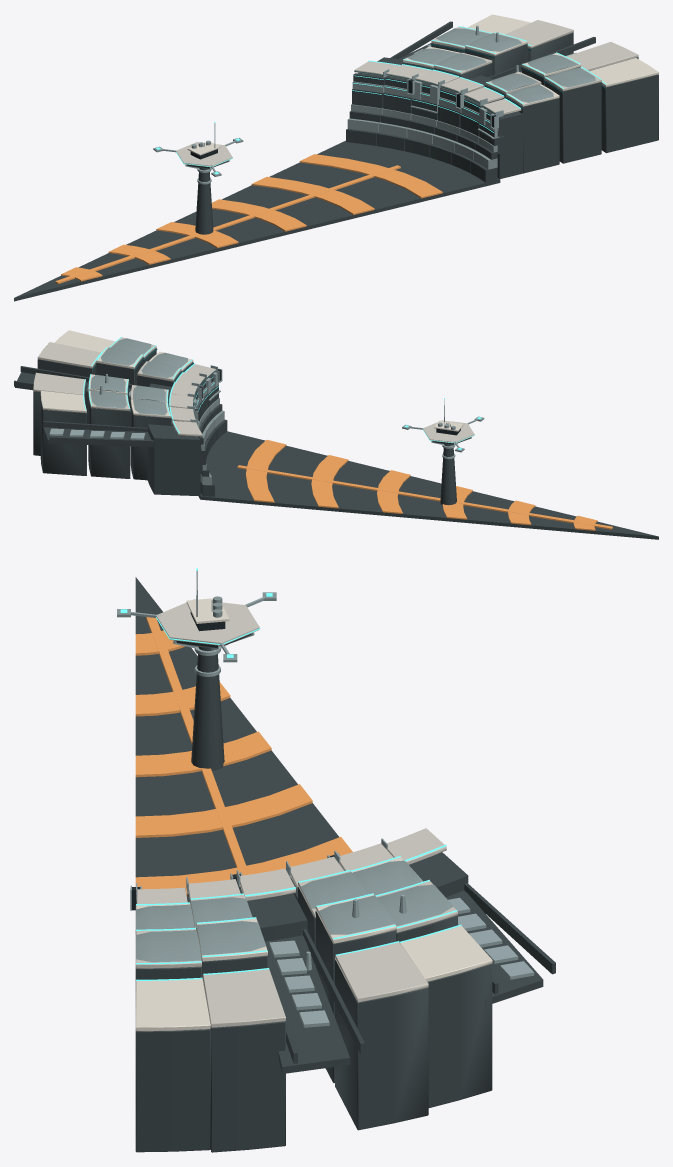
File: Weather_Lung_Sector_00.glb
3 renders of one model, top to bottom at view 1: azimuth 30°, elevation 25°; view 2: azimuth 150°, elevation 25°; view 3: azimuth 270°, elevation 25°, orthographic. The views are drawn at different scales.
Parts seen in each view (by area): view 1: Weather_Lung_Sector_00; view 2: Weather_Lung_Sector_00; view 3: Weather_Lung_Sector_00.
Part boxes in pixels (left/top/right/bottom): Weather_Lung_Sector_00: left=14, top=14, right=658, bottom=301; Weather_Lung_Sector_00: left=14, top=330, right=658, bottom=539; Weather_Lung_Sector_00: left=117, top=568, right=555, bottom=1152.
Bounding box in the file's own units: 13417 × 2233 × 4253.
